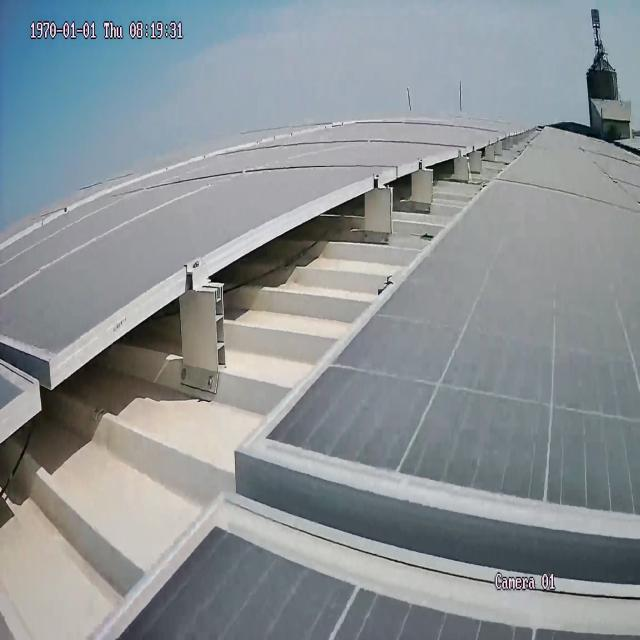interior panel: (228, 435, 640, 633)
outher panel: (0, 129, 541, 640)
